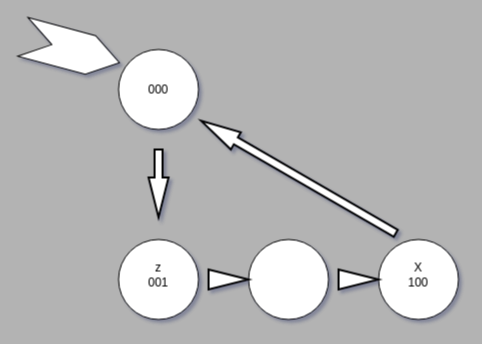
The diagram is 482 pixels wide and 344 high, and some of its shapes have lost their labels. Each missing label, with the centre of its shape:
reset: point 70,49
y 010: point 298,176
